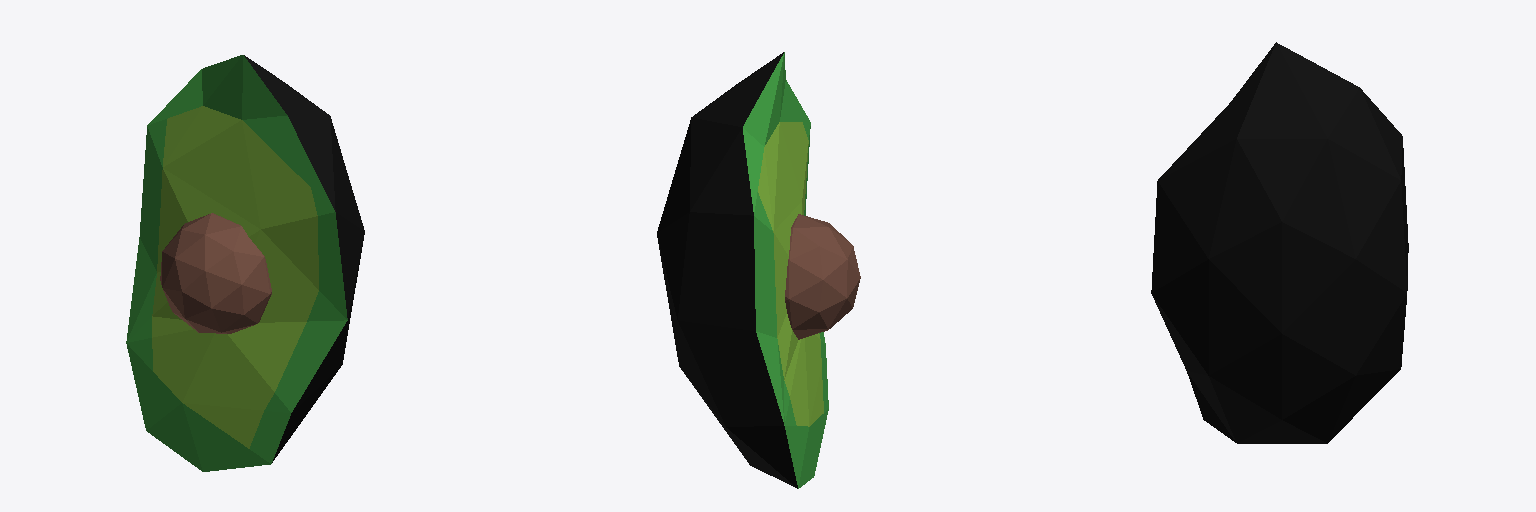
File: avocado.obj
3 renders of one model, left to right at view 1: azimuth 30°, elevation 25°; view 2: azimuth 150°, elevation 25°; view 3: azimuth 270°, elevation 25°, orthographic.
Parts seen in each view (by area): view 1: model; view 2: model; view 3: model.
Boxes of the visible parts, box(x1,y1,x2,y2) form: model: box(126, 55, 364, 471); model: box(657, 52, 860, 488); model: box(1151, 42, 1408, 443).
Bounding box in the file's own units: 0.4307 × 0.9831 × 0.555.